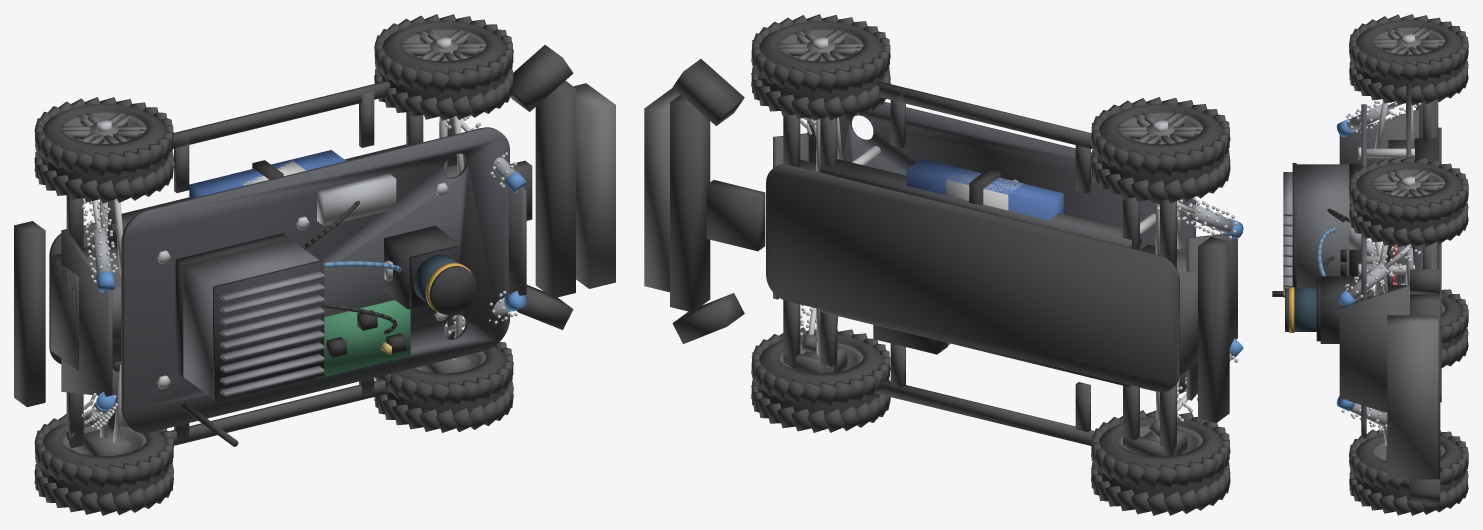
File: f1tenth_car.glb
3 views of the same model, side by side, from view 1: azimuth 30°, elevation 25°; view 2: azimuth 150°, elevation 25°; view 3: azimuth 270°, elevation 25° (orthographic). The views are drawn at different scales.
Parts seen in each view (by area): view 1: chassis_plastic, chassis_metal, wheel_rl_rubber, wheel_fl_rubber, chassis_rubber, wheel_rr_rubber, wheel_fr_rubber, lidar_plastic, chassis_pcb, chassis_paint, wheel_fl_plastic, wheel_rl_plastic (+2 smaller); view 2: chassis_plastic, wheel_rl_rubber, wheel_fl_rubber, wheel_rr_rubber, wheel_fr_rubber, chassis_rubber, chassis_paint, chassis_metal, wheel_fl_plastic, wheel_rl_plastic; view 3: chassis_plastic, chassis_metal, chassis_rubber, wheel_fl_rubber, wheel_rl_rubber, wheel_fr_rubber, lidar_plastic, wheel_rr_rubber, wheel_rl_plastic, wheel_fl_plastic, lidar_glass, chassis_blue (+2 smaller).
Part boxes in pixels (<box>): chassis_plastic: <box>14,45,575,456</box>; chassis_metal: <box>81,115,517,443</box>; wheel_rl_rubber: <box>34,97,173,203</box>; wheel_fl_rubber: <box>374,14,513,120</box>; chassis_rubber: <box>252,83,615,334</box>; wheel_rr_rubber: <box>34,414,173,515</box>; wheel_fr_rubber: <box>374,329,513,432</box>; lidar_plastic: <box>384,225,476,314</box>; chassis_pcb: <box>317,300,410,378</box>; chassis_paint: <box>189,150,345,199</box>; wheel_fl_plastic: <box>401,29,486,61</box>; wheel_rl_plastic: <box>62,112,146,143</box>; chassis_plastic: <box>670,59,1237,456</box>; wheel_rl_rubber: <box>1091,97,1230,203</box>; wheel_fl_rubber: <box>751,14,890,120</box>; wheel_rr_rubber: <box>1091,410,1230,515</box>; wheel_fr_rubber: <box>751,327,890,432</box>; chassis_rubber: <box>644,88,1000,292</box>; chassis_paint: <box>906,159,1063,219</box>; chassis_metal: <box>800,117,1238,438</box>; wheel_fl_plastic: <box>778,29,863,61</box>; wheel_rl_plastic: <box>1118,112,1202,144</box>; chassis_plastic: <box>1272,84,1441,502</box>; chassis_metal: <box>1283,100,1420,446</box>; chassis_rubber: <box>1317,208,1438,478</box>; wheel_fl_rubber: <box>1349,156,1468,247</box>; wheel_rl_rubber: <box>1349,14,1468,105</box>; wheel_fr_rubber: <box>1349,428,1468,515</box>; lidar_plastic: <box>1285,276,1361,343</box>; wheel_rr_rubber: <box>1366,285,1468,367</box>; wheel_rl_plastic: <box>1372,27,1445,54</box>; wheel_fl_plastic: <box>1372,169,1445,196</box>; lidar_glass: <box>1294,288,1316,331</box>; chassis_blue: <box>1336,118,1355,411</box>.
Size of the model in its own units: 0.5562 by 0.3408 by 0.1927.
